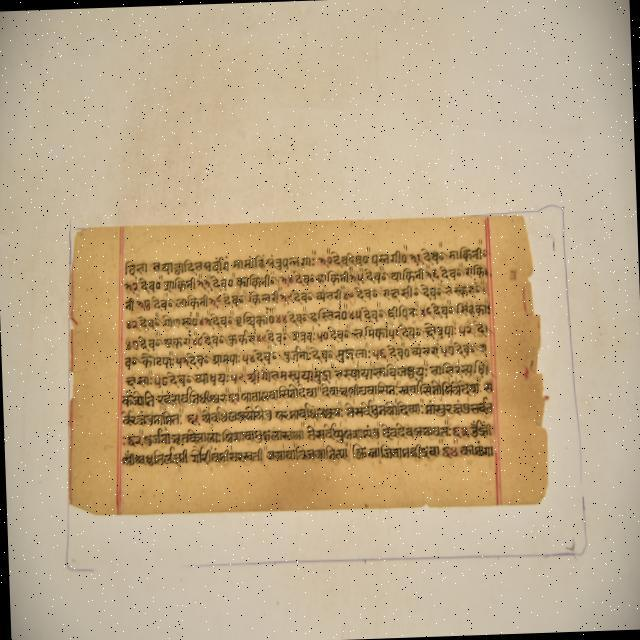text_paragraph: (69, 218, 544, 513)
